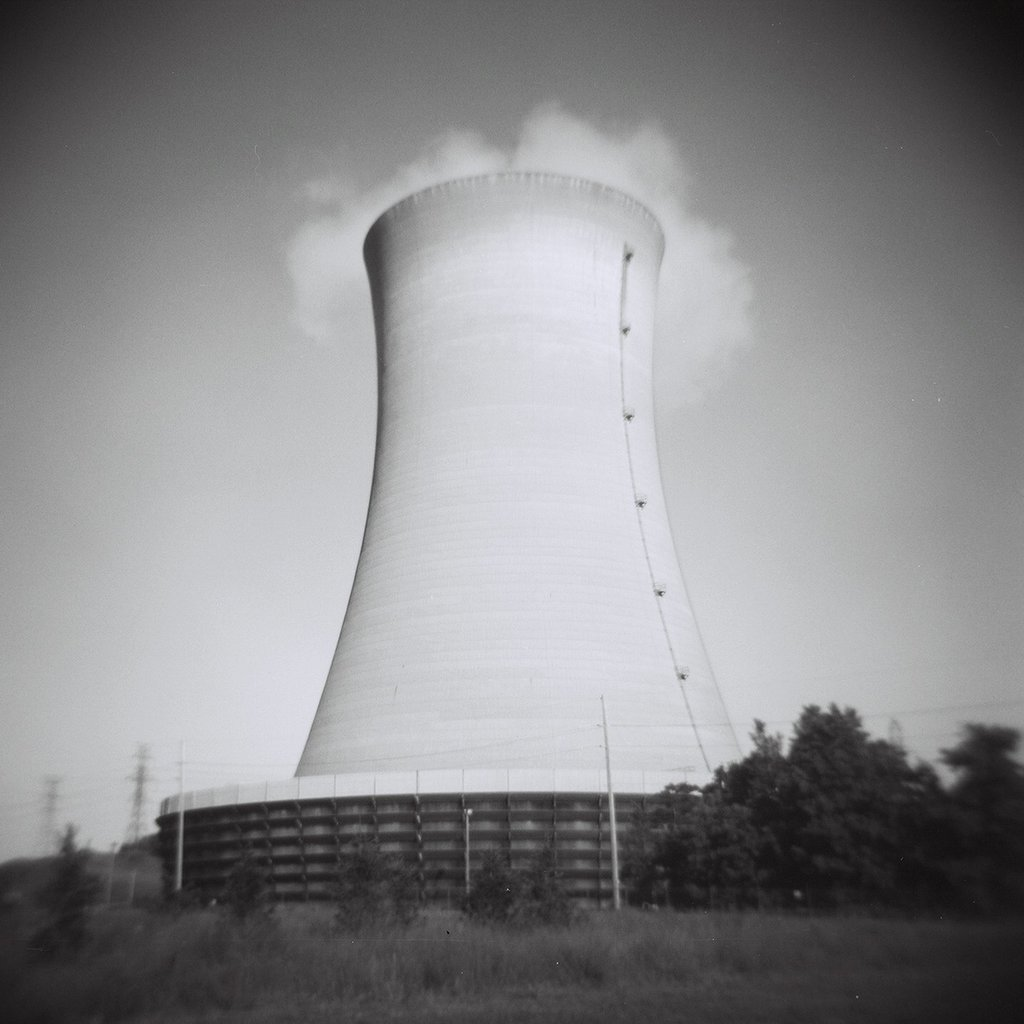Tree: (623, 702, 1024, 919)
